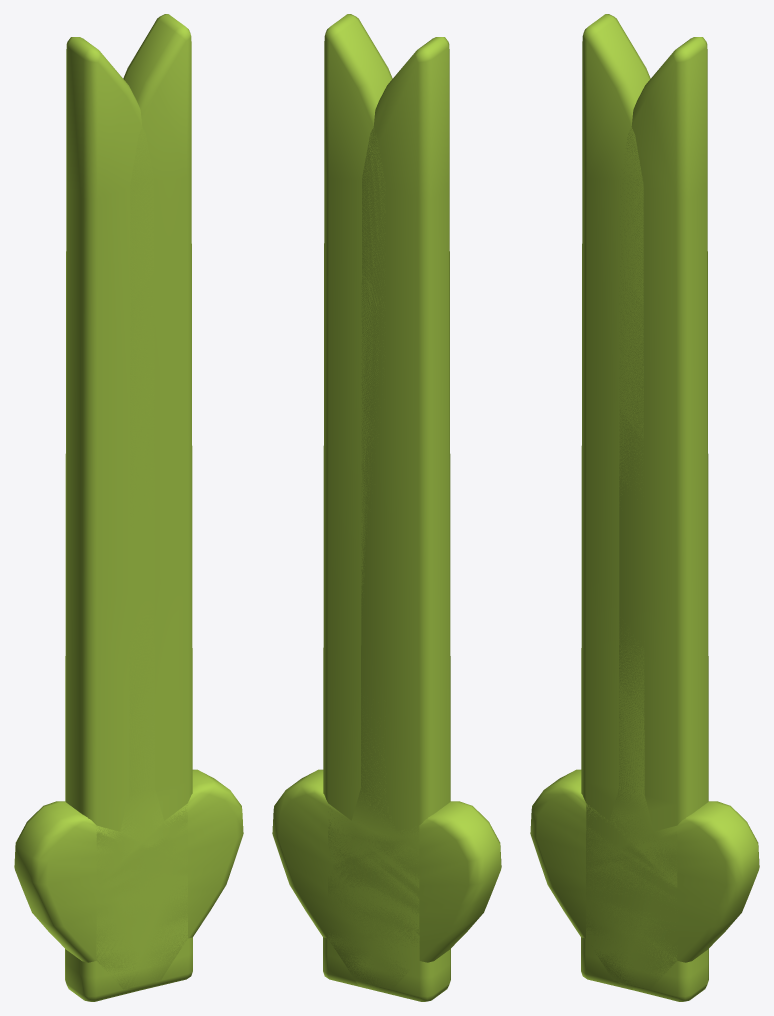
Rendered from hearthDoor2Green_GEO.fbx.
3 views of the same model, side by side, from view 1: azimuth 30°, elevation 25°; view 2: azimuth 150°, elevation 25°; view 3: azimuth 330°, elevation 25° (orthographic).
Visible parts, largest first — view 1: Hearthdoor2_Green_GEO, Hearthdoor2_Green_GEO.001; view 2: Hearthdoor2_Green_GEO, Hearthdoor2_Green_GEO.001; view 3: Hearthdoor2_Green_GEO.001, Hearthdoor2_Green_GEO.
Part boxes in pixels (<box>): Hearthdoor2_Green_GEO: <box>65,37,243,1001</box>; Hearthdoor2_Green_GEO.001: <box>14,14,192,990</box>; Hearthdoor2_Green_GEO: <box>272,37,450,1001</box>; Hearthdoor2_Green_GEO.001: <box>323,14,501,994</box>; Hearthdoor2_Green_GEO.001: <box>530,37,708,1001</box>; Hearthdoor2_Green_GEO: <box>581,14,759,990</box>.
Bounding box in the file's own units: 4.86 × 20.84 × 1.05.
